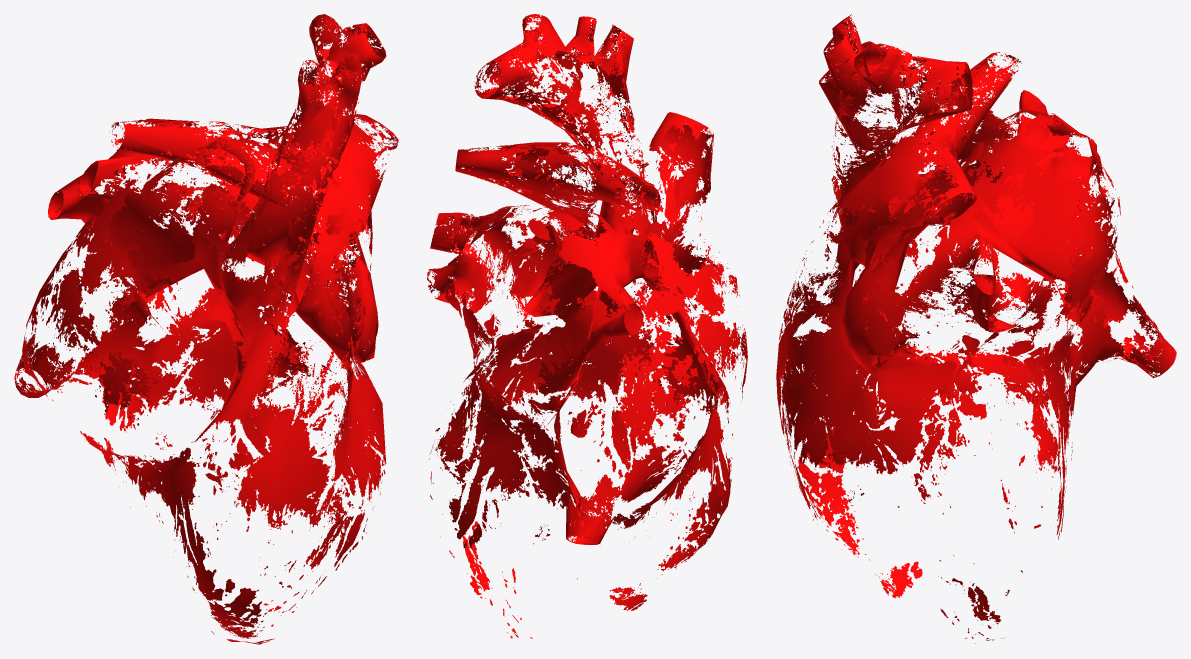
Rendered from HeartSign.fbx.
3 renders of one model, left to right at view 1: azimuth 30°, elevation 25°; view 2: azimuth 150°, elevation 25°; view 3: azimuth 270°, elevation 25°, orthographic. The views are drawn at different scales.
Visible parts, largest first — view 1: heart_real; view 2: heart_real; view 3: heart_real.
Boxes of the visible parts, left/top/right/bottom form: heart_real: left=14, top=14, right=398, bottom=644; heart_real: left=427, top=14, right=747, bottom=638; heart_real: left=776, top=14, right=1176, bottom=643.
Size of the model in its own units: 124 by 235 by 137.
